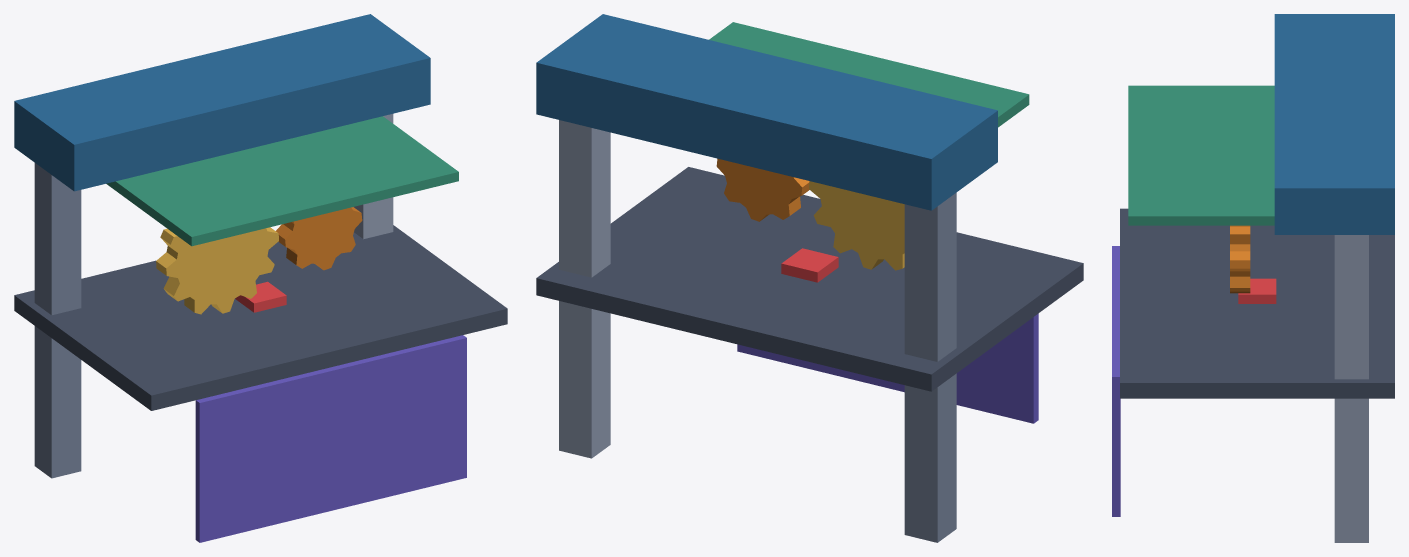
Rendered from fixture.476b6be4.glb.
The picture shows the model from 3 angles, left to right: view 1: azimuth 30°, elevation 25°; view 2: azimuth 150°, elevation 25°; view 3: azimuth 270°, elevation 25°; orthographic projection. The views are drawn at different scales.
Parts seen in each view (by area): view 1: base_plate, head, cover_front, cover_top, column_left, gear_a, gear_b, column_right, core; view 2: base_plate, head, column_left, column_right, cover_top, cover_front, gear_a, gear_b, core; view 3: base_plate, head, cover_top, column_right, cover_front, gear_b, core.
Part boxes in pixels (x1=…): base_plate: x1=14, y1=225, x2=507, y2=410; head: x1=14, y1=14, x2=430, y2=191; cover_front: x1=195, y1=335, x2=466, y2=542; cover_top: x1=106, y1=116, x2=458, y2=246; column_left: x1=34, y1=163, x2=81, y2=478; gear_a: x1=156, y1=227, x2=278, y2=314; gear_b: x1=276, y1=207, x2=362, y2=270; column_right: x1=354, y1=114, x2=393, y2=239; core: x1=235, y1=281, x2=286, y2=312; base_plate: x1=536, y1=167, x2=1083, y2=391; head: x1=536, y1=14, x2=997, y2=210; column_left: x1=904, y1=192, x2=956, y2=542; column_right: x1=559, y1=120, x2=610, y2=458; cover_top: x1=709, y1=22, x2=1029, y2=127; cover_front: x1=737, y1=313, x2=1038, y2=423; gear_a: x1=809, y1=181, x2=904, y2=270; gear_b: x1=716, y1=158, x2=809, y2=221; core: x1=781, y1=248, x2=838, y2=282; base_plate: x1=1120, y1=208, x2=1394, y2=398; head: x1=1274, y1=14, x2=1394, y2=234; cover_top: x1=1128, y1=85, x2=1274, y2=225; column_right: x1=1334, y1=235, x2=1368, y2=542; cover_front: x1=1112, y1=246, x2=1120, y2=516; gear_b: x1=1230, y1=225, x2=1250, y2=293; core: x1=1238, y1=278, x2=1276, y2=303.
Bounding box in the file's own units: 2.4 × 2.3 × 1.65.
